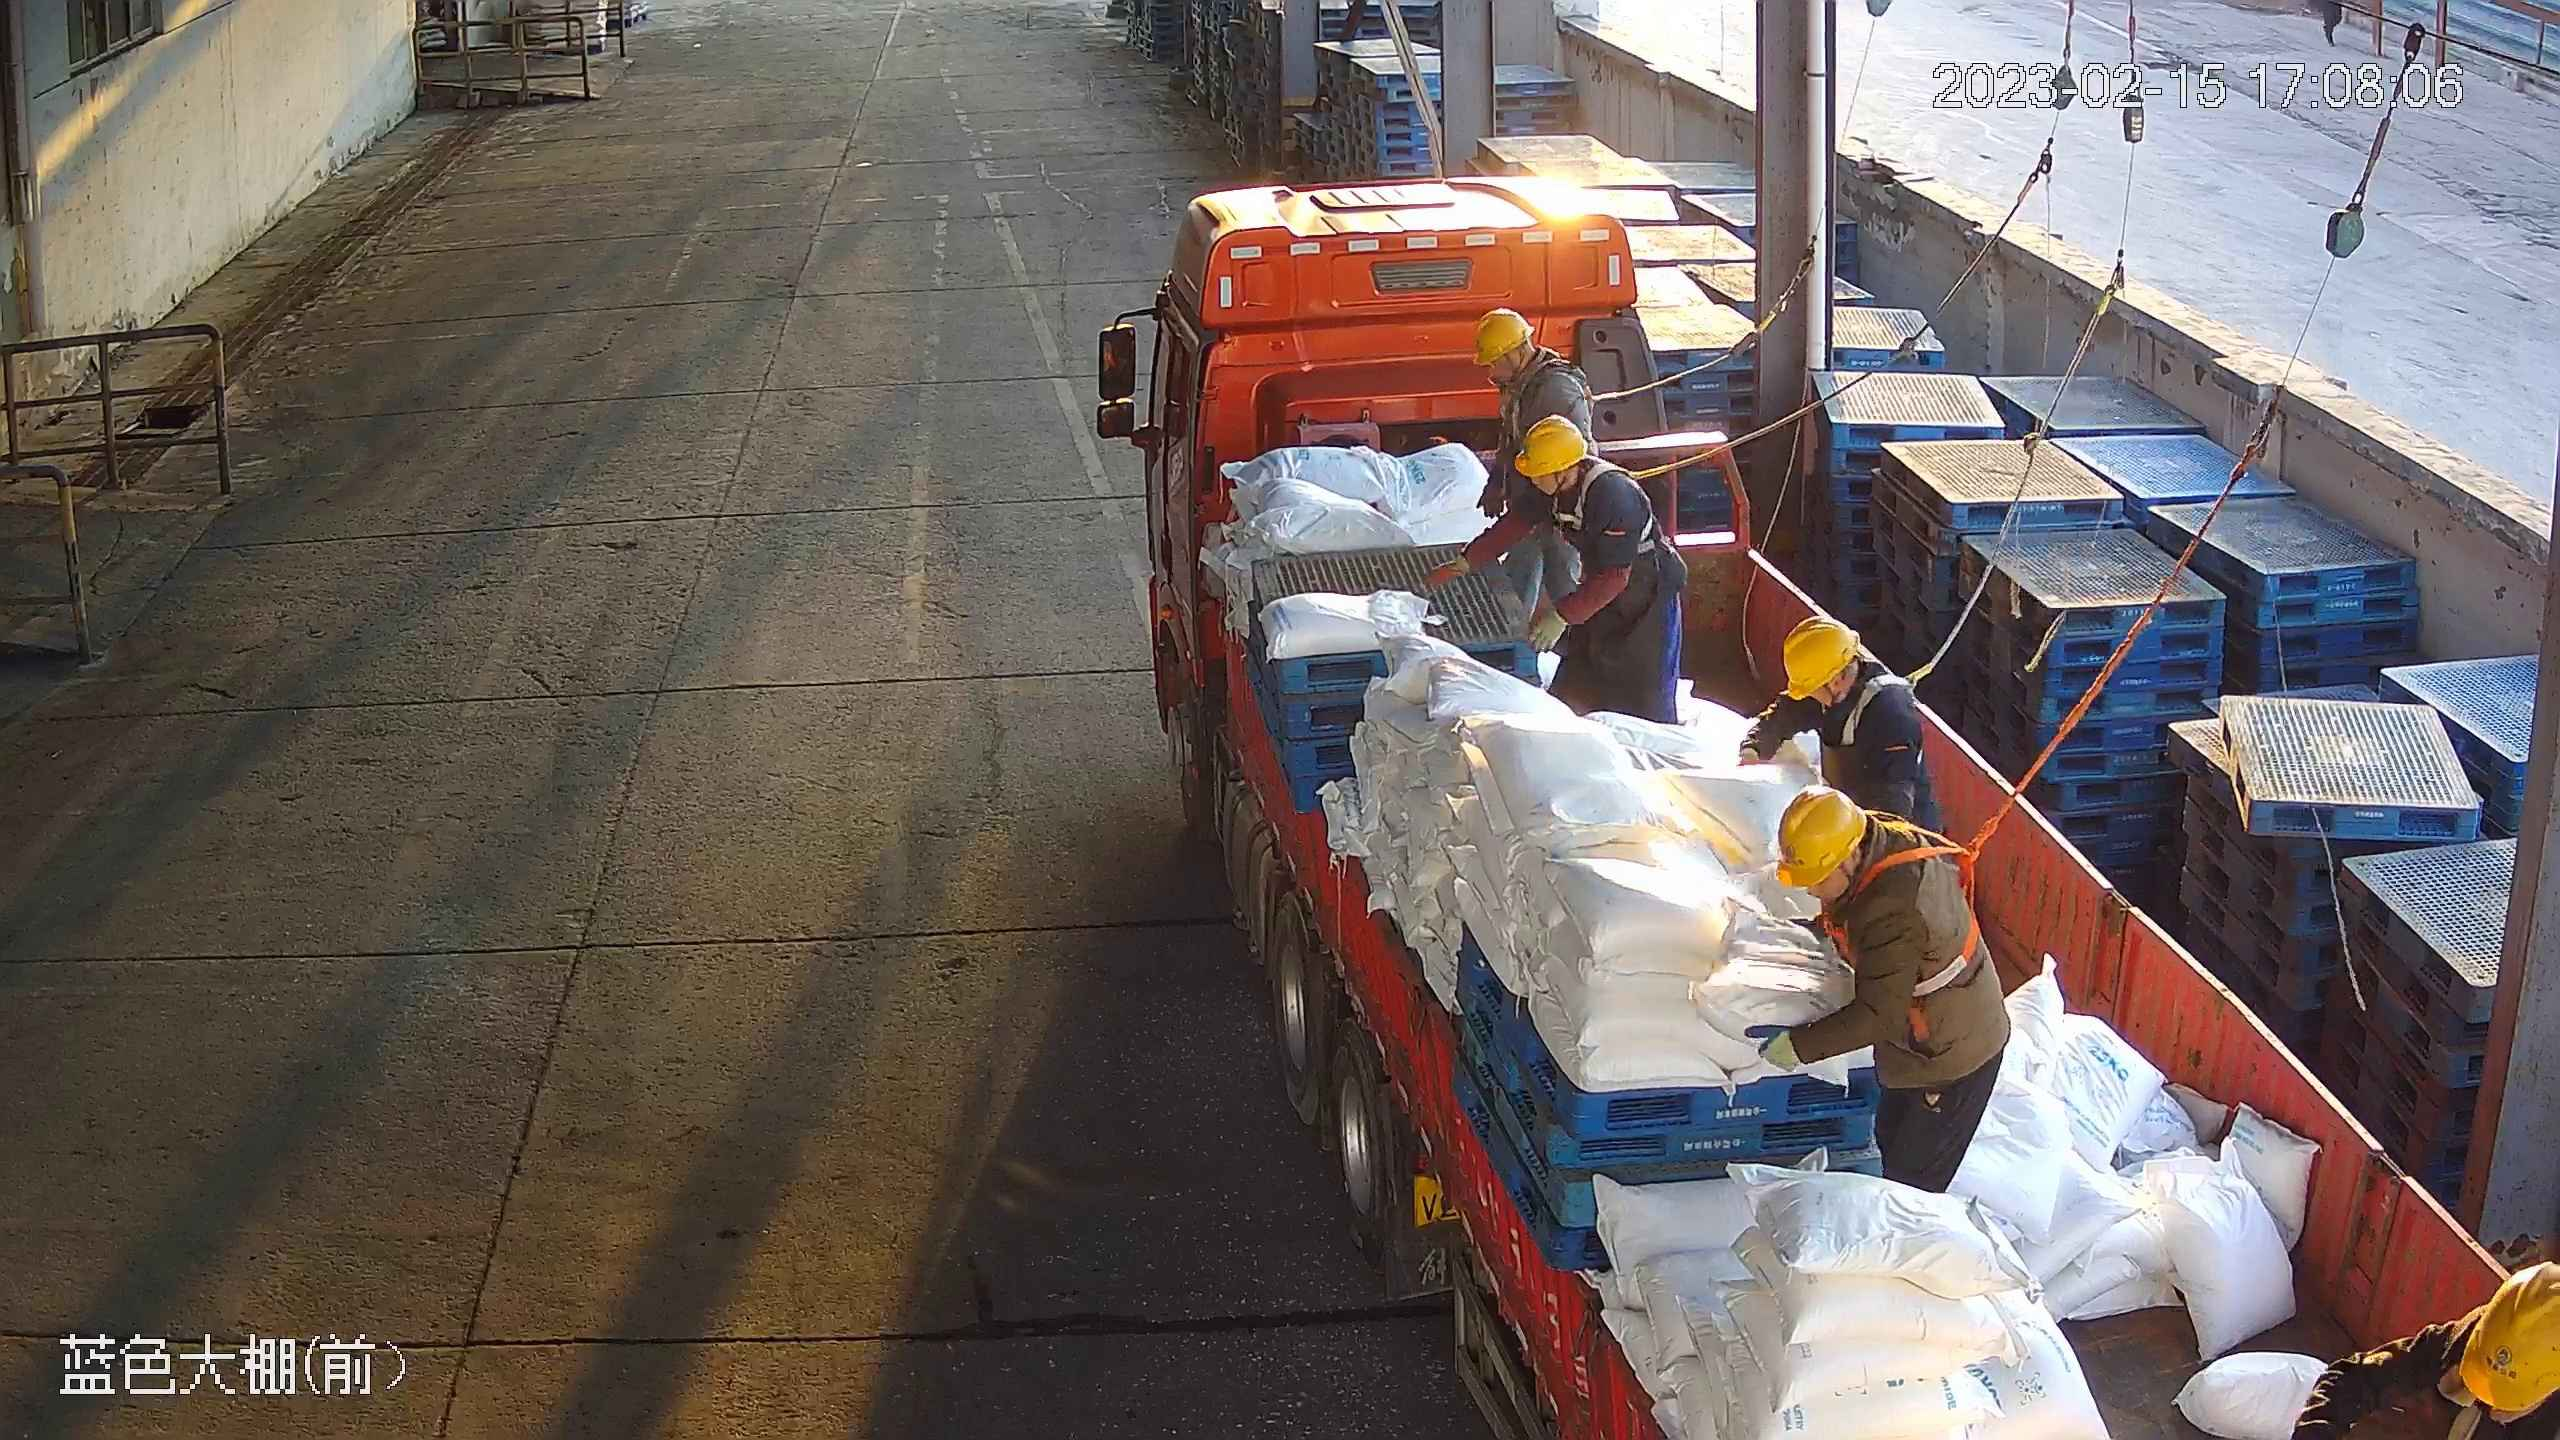belt: (1821, 809, 1996, 1043), (1500, 346, 1612, 440), (1552, 454, 1657, 553), (1821, 665, 1928, 745)
head: (1776, 785, 1940, 949), (1783, 616, 1918, 741), (1512, 414, 1636, 538), (1473, 307, 1585, 412)
helmet: (2460, 1260, 2560, 1410), (1776, 784, 1866, 887), (1782, 616, 1860, 700), (1513, 414, 1586, 477), (1473, 307, 1536, 365)
people: (1757, 784, 2012, 1193), (1426, 414, 1689, 724), (1739, 615, 1944, 844), (1472, 308, 1593, 622)
truck: (1097, 178, 2560, 1440)
